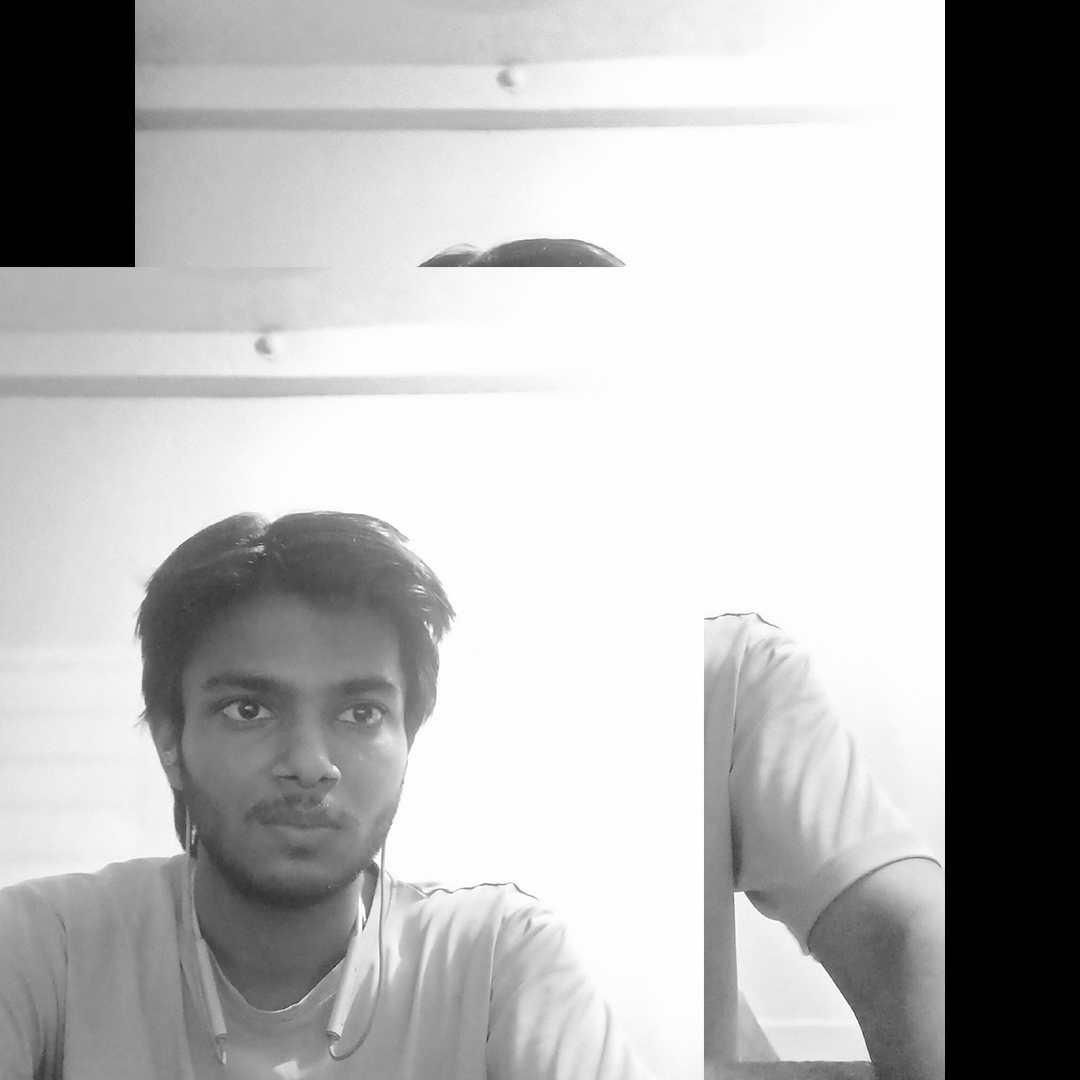Focused: (98, 450, 488, 894)
